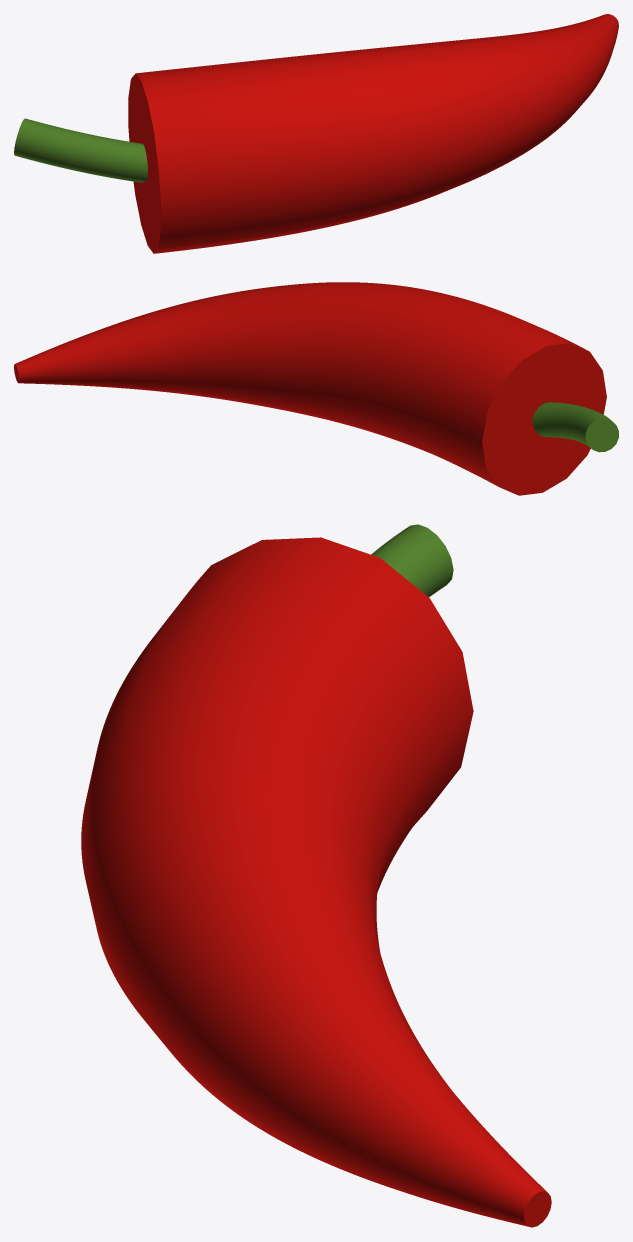
Rendered from chili.glb.
3 renders of one model, top to bottom at view 1: azimuth 30°, elevation 25°; view 2: azimuth 150°, elevation 25°; view 3: azimuth 270°, elevation 25°, orthographic. The views are drawn at different scales.
Visible parts, largest first — view 1: p0; view 2: p0; view 3: p0.
Part boxes in pixels (x1,y1,x2,y2): p0: [14, 14, 618, 253]; p0: [14, 282, 618, 495]; p0: [81, 524, 551, 1227].
Size of the model in its own units: 0.0608 by 0.0151 by 0.0215.
